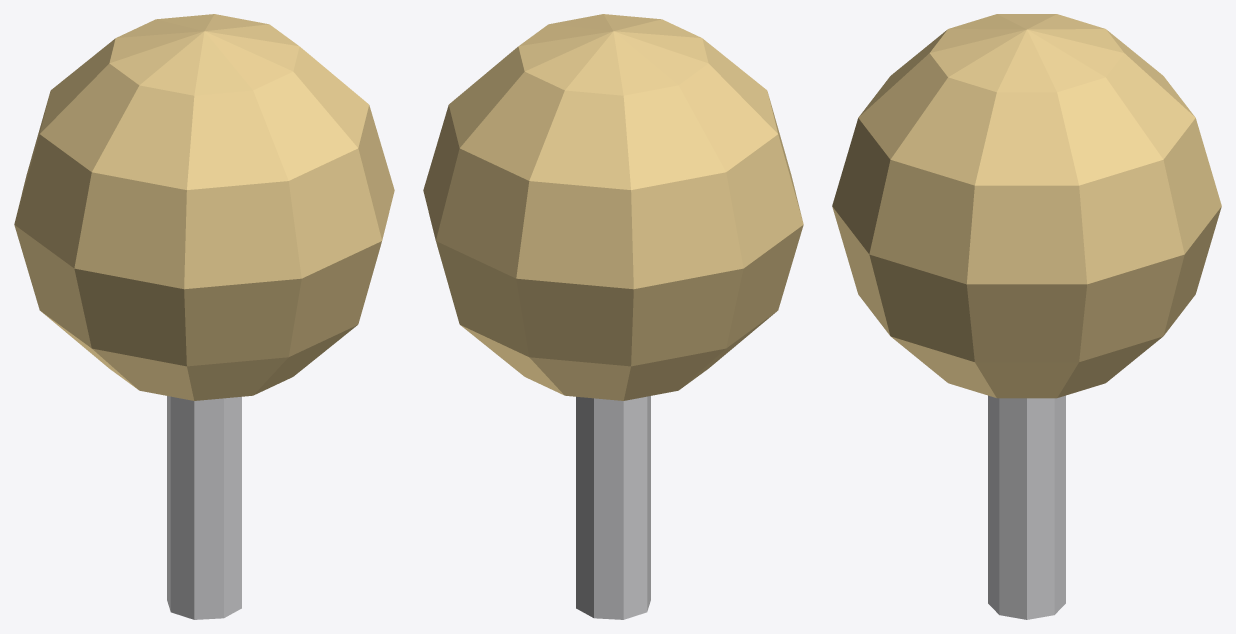
Rendered from nuke.glb.
The picture shows the model from 3 angles, left to right: view 1: azimuth 30°, elevation 25°; view 2: azimuth 150°, elevation 25°; view 3: azimuth 270°, elevation 25°; orthographic projection.
Parts seen in each view (by area): view 1: nuke; view 2: nuke; view 3: nuke.
Part boxes in pixels (box(x1,y1,x2,y2)): nuke: box(14, 14, 394, 619); nuke: box(423, 14, 803, 619); nuke: box(832, 14, 1221, 619).
Size of the model in its own units: 0.3804 by 0.65 by 0.4.
